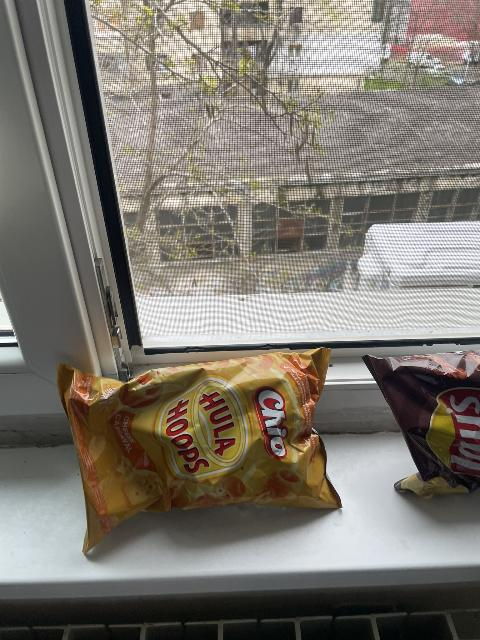Chio Hula Hoops Cheese 70g: (59, 348, 338, 554)
Lays Beef Grilled Ribs 125g: (367, 350, 477, 500)
